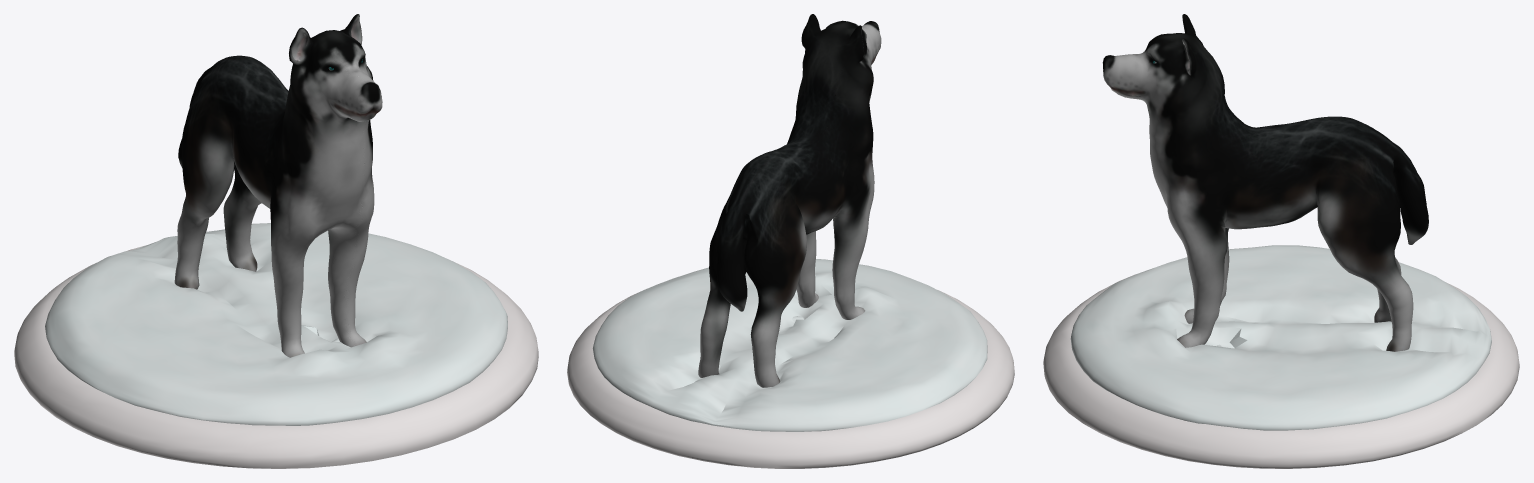
File: advent_calendar_day_15__husky_dog.glb
3 views of the same model, side by side, from view 1: azimuth 30°, elevation 25°; view 2: azimuth 150°, elevation 25°; view 3: azimuth 270°, elevation 25° (orthographic). The views are drawn at different scales.
Visible parts, largest first — view 1: Object_4, Object_8, Object_6; view 2: Object_4, Object_8, Object_6; view 3: Object_4, Object_8, Object_6.
Part boxes in pixels (x1,y1,x2,y2): Object_4: (45, 223, 507, 425); Object_8: (174, 14, 382, 357); Object_6: (14, 245, 538, 468); Object_4: (592, 259, 987, 431); Object_8: (698, 14, 881, 387); Object_6: (567, 290, 1014, 468); Object_4: (1070, 245, 1491, 430); Object_8: (1102, 14, 1428, 351); Object_6: (1043, 274, 1519, 468).
Bounding box in the file's own units: 2.71 × 2.18 × 2.71.
Materials: 4 (2 with a texture image).
